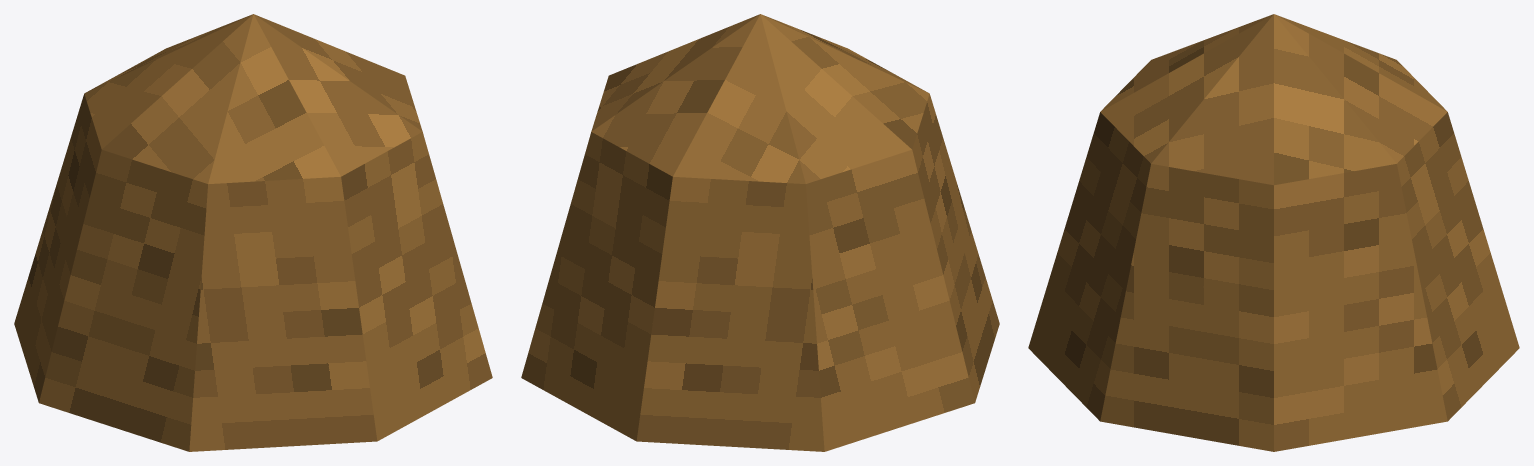
Rendered from pan.glb.
3 renders of one model, left to right at view 1: azimuth 30°, elevation 25°; view 2: azimuth 150°, elevation 25°; view 3: azimuth 270°, elevation 25°, orthographic.
Parts seen in each view (by area): view 1: pan; view 2: pan; view 3: pan.
Boxes of the visible parts, bbox=[...] form: pan: bbox=[14, 14, 492, 451]; pan: bbox=[521, 14, 999, 451]; pan: bbox=[1028, 14, 1519, 451].
Size of the model in its own units: 0.2 by 0.15 by 0.2.
Materials: 1 (1 with a texture image).
